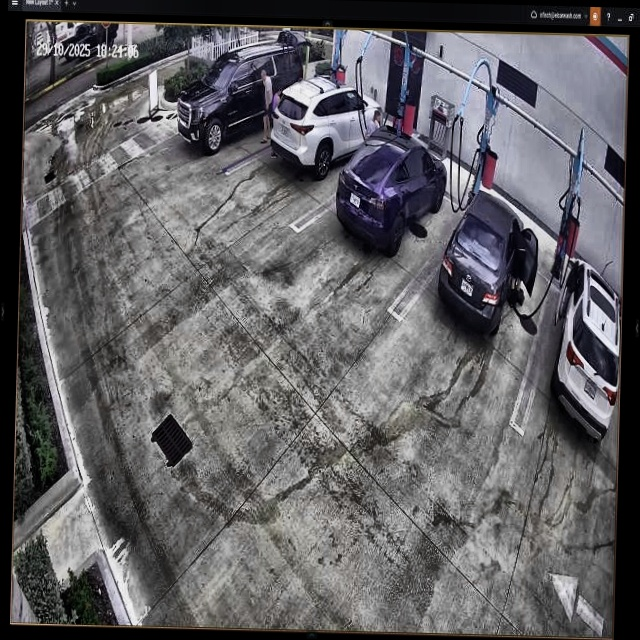Car: (438, 188, 538, 331), (335, 125, 448, 248), (270, 78, 383, 172)
